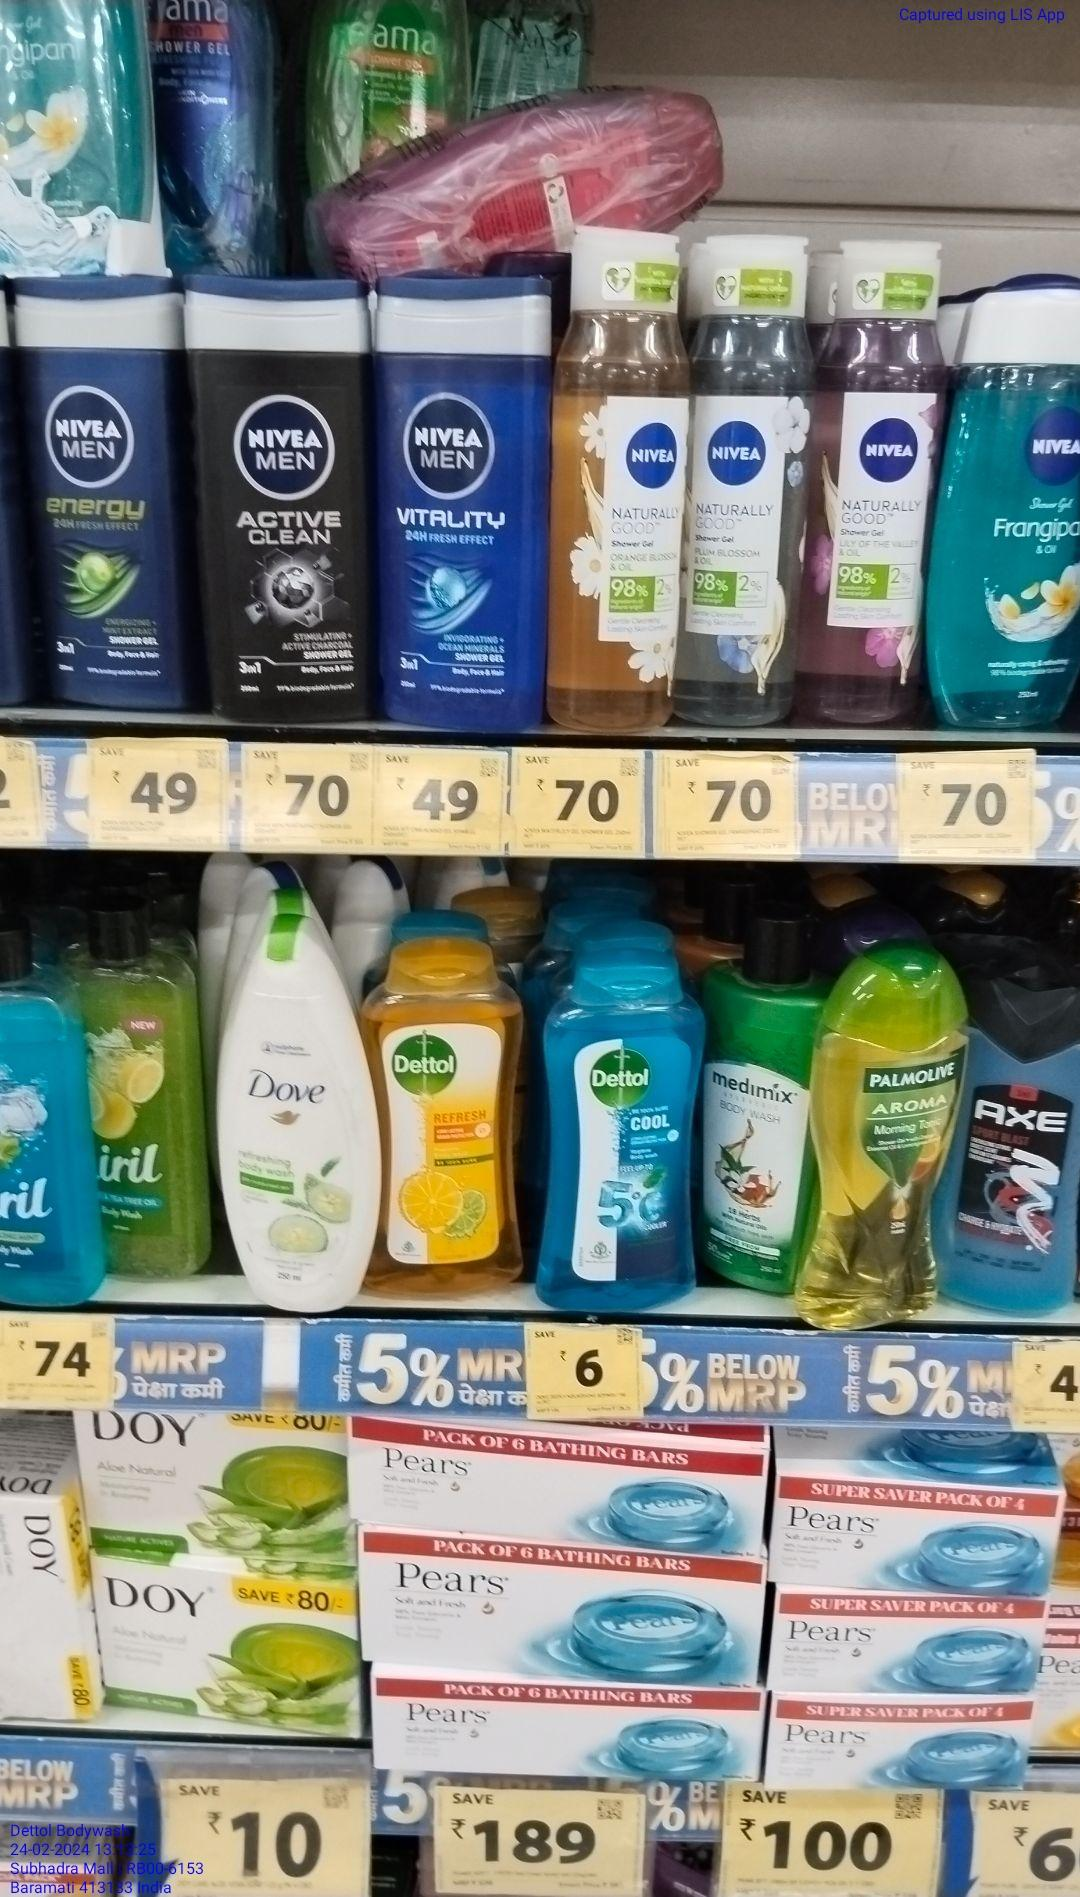Dettol_Bodywash_Cool: (550, 960, 697, 1311)
Dettol_Bodywash_Refresh: (380, 945, 517, 1289)
Dove_Refreshing_Body_Wash_250ML: (211, 922, 374, 1307)
Liril_Cooling_Mint_Body_Wash_250ML: (4, 938, 96, 1305)
Liril_Lime_and_Tea_Tree_Oil_Body_Wash_250ML: (96, 891, 197, 1279)
Nivea_Shower_Gel_Frangipani_and_Oil_250ML: (937, 279, 1080, 732)
